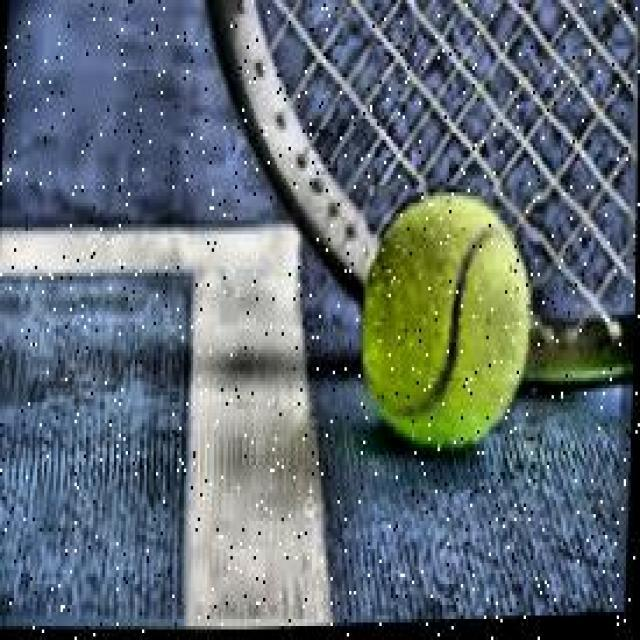tennis-ball: (361, 178, 547, 469)
